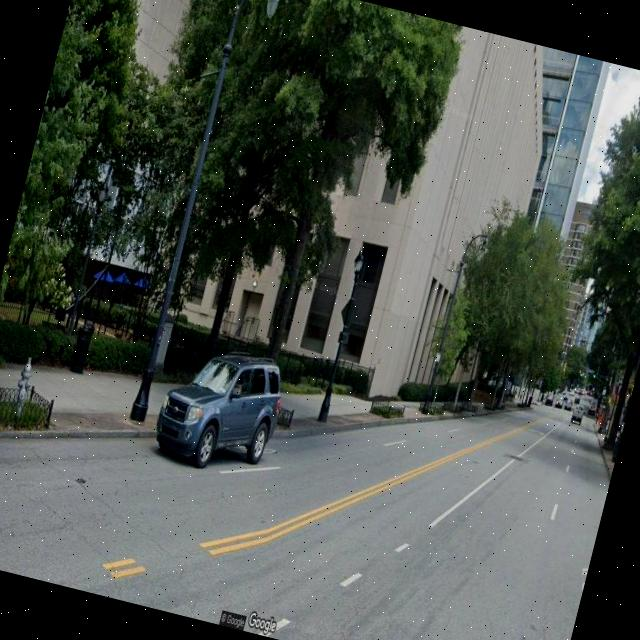trash_can: (68, 317, 95, 373)
